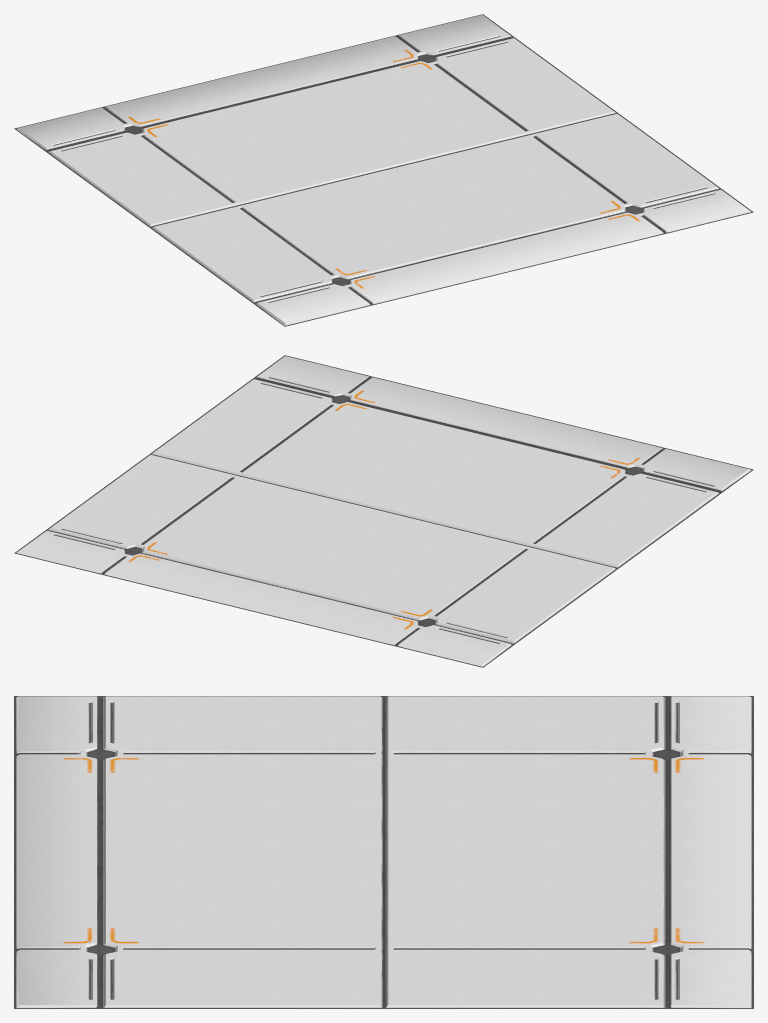
The model's file is SM_MFloor02-350x350-2.FBX.
The picture shows the model from 3 angles, top to bottom: view 1: azimuth 30°, elevation 25°; view 2: azimuth 150°, elevation 25°; view 3: azimuth 270°, elevation 25°; orthographic projection. The views are drawn at different scales.
Parts seen in each view (by area): view 1: SM_MFloor02-350x350-2; view 2: SM_MFloor02-350x350-2; view 3: SM_MFloor02-350x350-2.
Boxes of the visible parts, <box> form: SM_MFloor02-350x350-2: <box>14,14,753,326</box>; SM_MFloor02-350x350-2: <box>14,355,753,667</box>; SM_MFloor02-350x350-2: <box>14,696,753,1008</box>.
Size of what is drawn, in the model's own units: 350 by 350 by 1.
